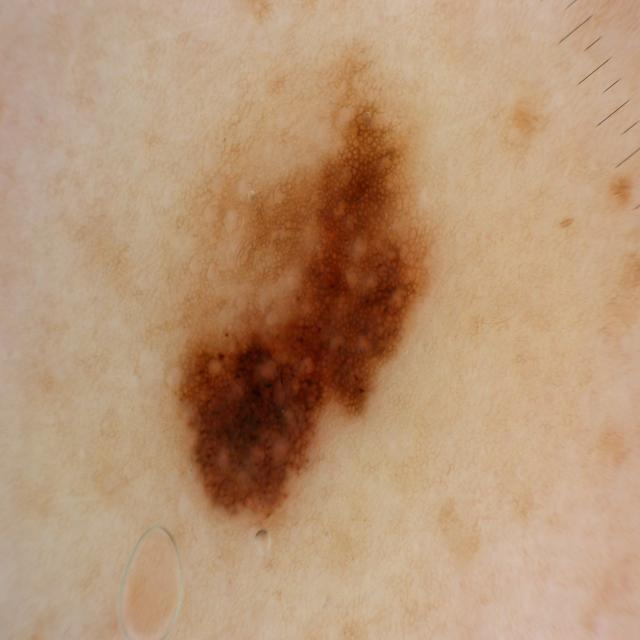Benign: (168, 67, 437, 524)
